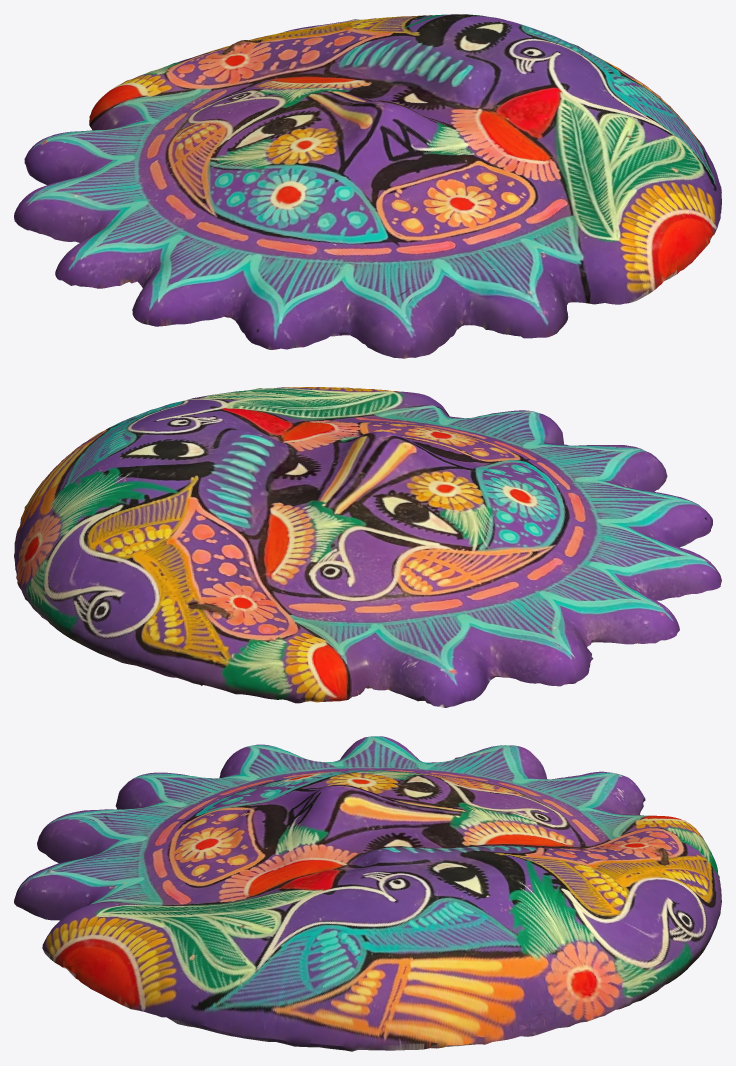
Rendered from sol-y-luna.glb.
The picture shows the model from 3 angles, top to bottom: view 1: azimuth 30°, elevation 25°; view 2: azimuth 150°, elevation 25°; view 3: azimuth 270°, elevation 25°; orthographic projection.
Visible parts, largest first — view 1: Sunmoon; view 2: Sunmoon; view 3: Sunmoon.
Boxes of the visible parts, x1,y1,x2,y2 form: Sunmoon: (14, 14, 721, 358); Sunmoon: (14, 387, 721, 707); Sunmoon: (14, 736, 721, 1051).
Bounding box in the file's own units: 0.2375 × 0.0418 × 0.233.
Materials: 1 (1 with a texture image).
